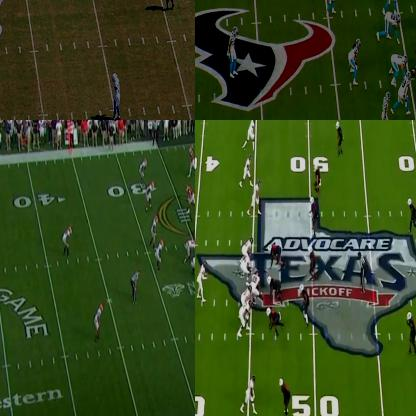CENTER: (251, 275, 261, 304)
DB: (229, 26, 240, 76), (278, 377, 290, 415), (113, 69, 121, 119), (407, 312, 415, 354), (63, 226, 72, 256), (408, 198, 415, 232), (146, 181, 154, 209), (336, 121, 343, 153), (96, 304, 102, 338), (316, 169, 324, 194), (140, 157, 146, 186), (164, 0, 176, 11)
LB: (350, 40, 362, 84), (398, 70, 410, 111), (300, 280, 312, 318), (310, 197, 318, 232), (383, 93, 393, 119), (156, 240, 163, 272), (310, 245, 317, 276), (150, 218, 157, 248), (327, 0, 337, 14)
QB: (197, 263, 206, 304)
SKILL: (249, 182, 264, 216), (244, 377, 257, 414), (244, 120, 256, 151), (240, 156, 252, 187), (186, 184, 194, 211), (188, 146, 194, 174)
